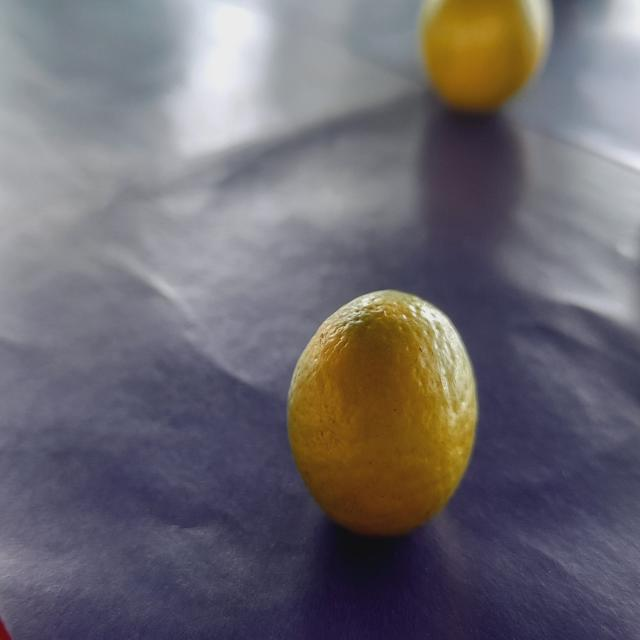greening: (269, 277, 494, 548)
